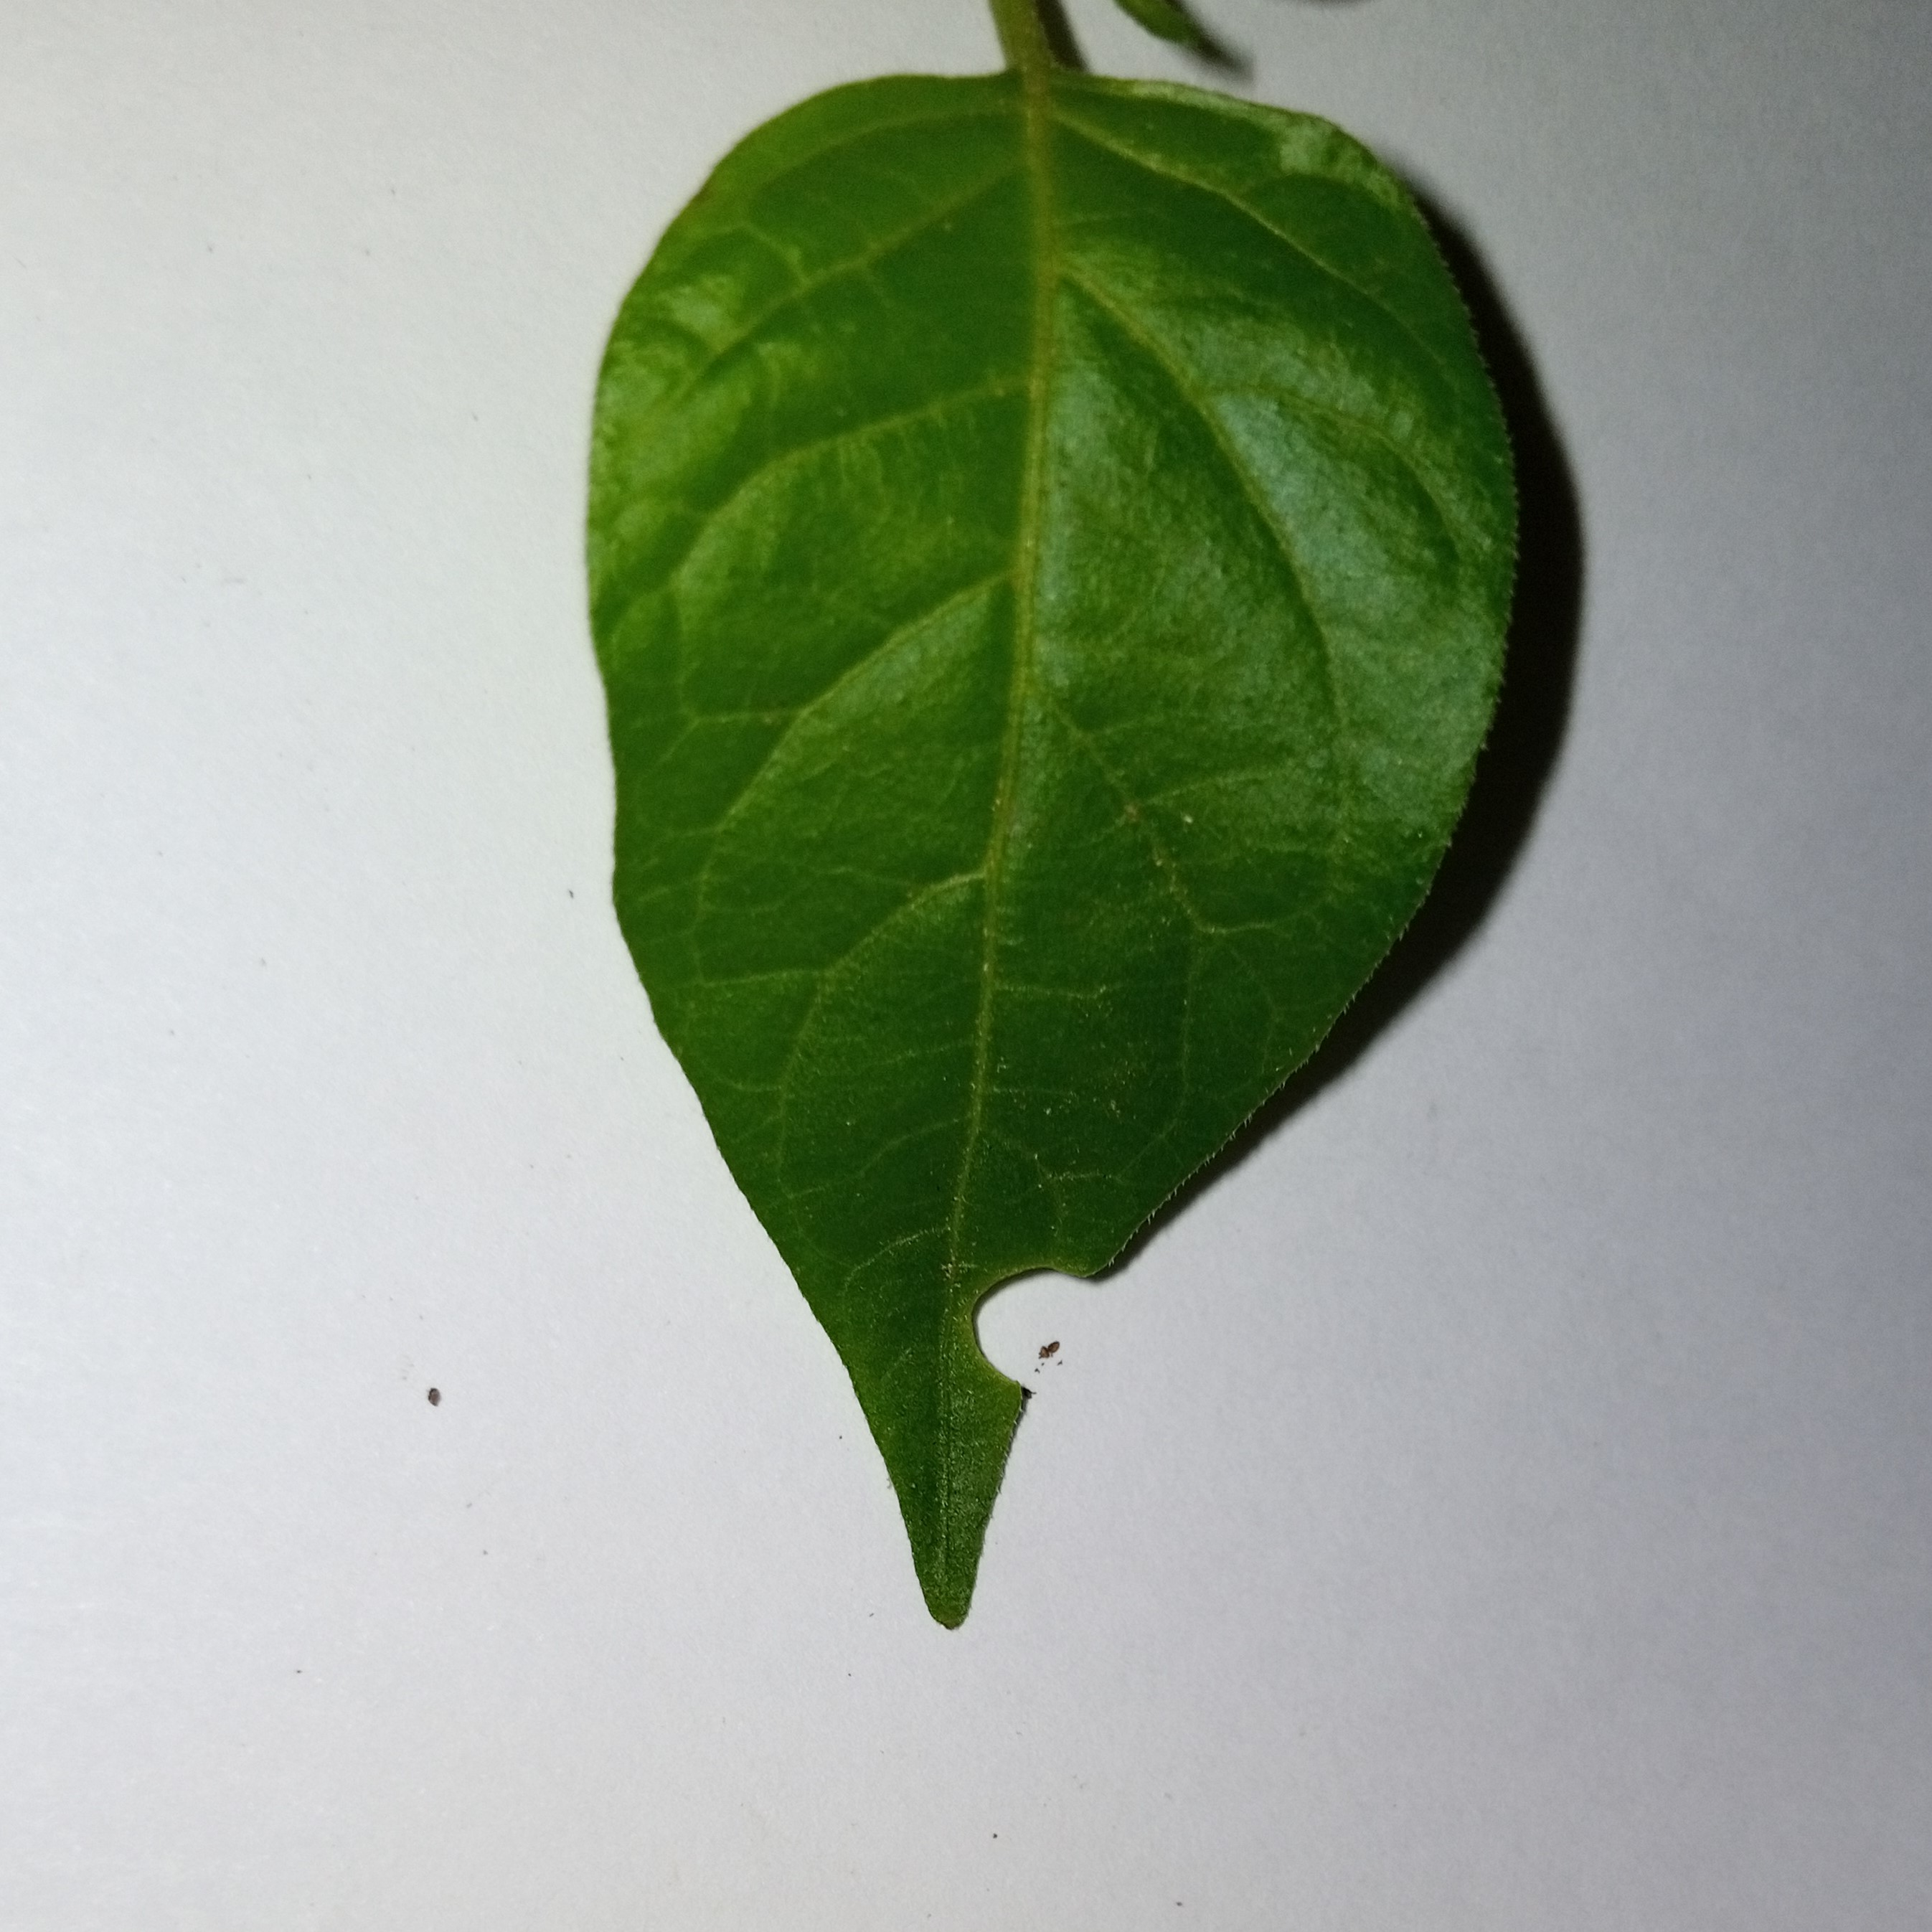Leaf: (442, 46, 1734, 1716)
